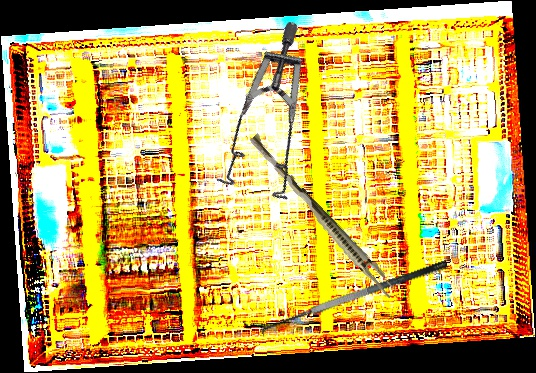Spatula Surgical: (257, 258, 454, 345)
Speculum: (172, 17, 381, 226)
Tissue Forceps: (243, 132, 402, 301)
